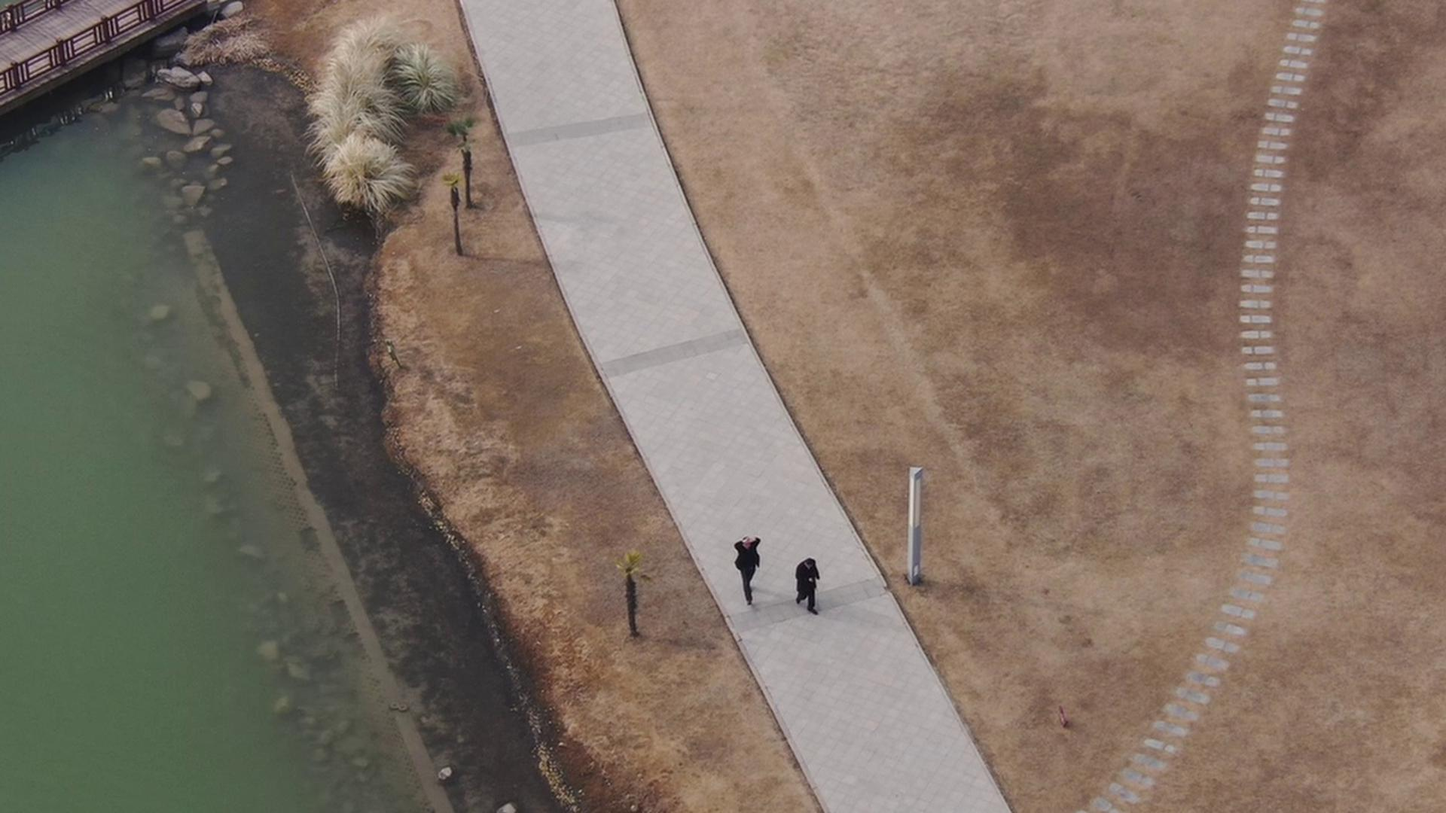human: (789, 562, 830, 634), (728, 534, 766, 607)
